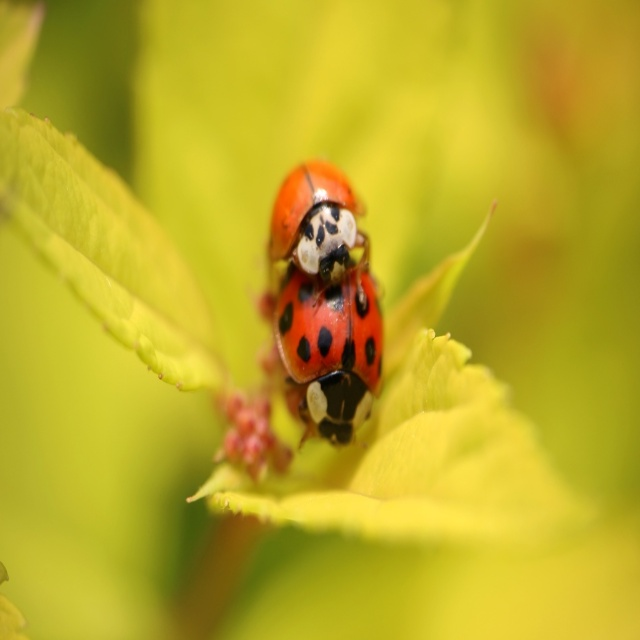Ladybug: (273, 264, 385, 455), (268, 159, 371, 283)
